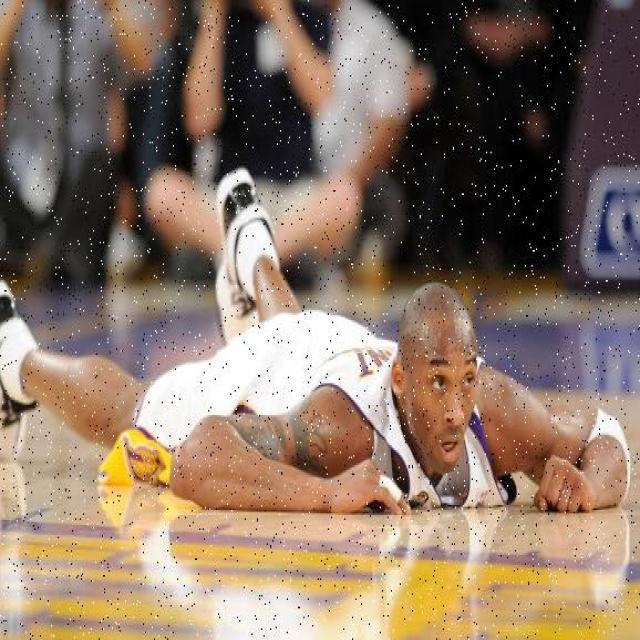fall: (19, 170, 602, 510)
